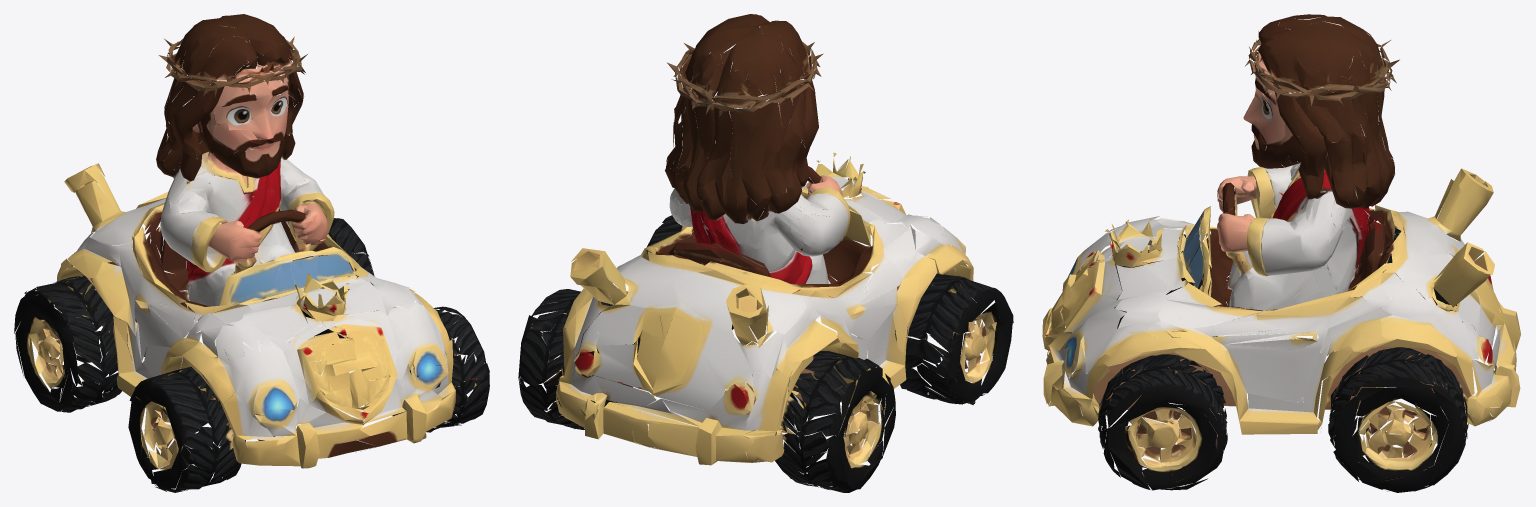
Rendered from jesus.glb.
The picture shows the model from 3 angles, left to right: view 1: azimuth 30°, elevation 25°; view 2: azimuth 150°, elevation 25°; view 3: azimuth 270°, elevation 25°; orthographic projection. The views are drawn at different scales.
Parts seen in each view (by area): view 1: body, rider_6, wheel_fr, wheel_br, rider_10, rider_5, wheel_fl, rider_7, wheel_bl, rider_11, rider_9; view 2: body, rider_6, wheel_fr, wheel_br, wheel_bl, rider_5, rider_10; view 3: body, rider_6, wheel_bl, wheel_fl, rider_7, rider_5, rider_10, rider_9.
Part boxes in pixels (x1,y1,x2,y2): body: (53,163,487,484); rider_6: (156,14,307,181); wheel_fr: (128,367,235,492); wheel_br: (14,277,108,411); rider_10: (160,170,261,273); rider_5: (169,139,296,285); wheel_fl: (434,306,489,427); rider_7: (279,157,334,243); wheel_bl: (328,218,374,344); rider_11: (247,209,316,252); rider_9: (293,201,328,260); body: (551,152,975,491); rider_6: (665,14,823,224); wheel_fr: (905,274,1013,405); wheel_br: (794,353,895,492); wheel_bl: (518,289,583,428); rider_5: (681,159,812,293); rider_10: (787,175,850,256); body: (1042,168,1520,464); rider_6: (1243,14,1399,230); wheel_bl: (1330,349,1468,492); wheel_fl: (1099,357,1227,490); rider_7: (1247,192,1343,276); rider_5: (1269,166,1370,292); rider_10: (1217,163,1300,218); rider_9: (1217,214,1254,273).
Size of the model in its own units: 1.85 by 2.14 by 2.35.
Materials: 1 (1 with a texture image).
